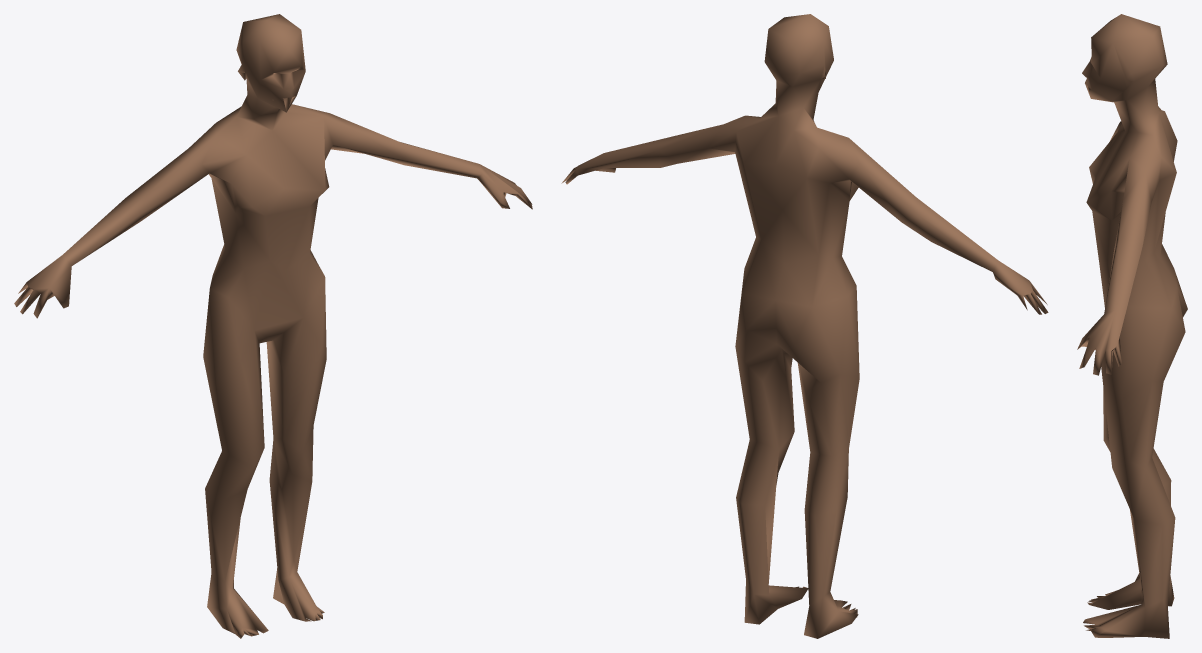
The model's file is obs_000003.obj.
The picture shows the model from 3 angles, left to right: view 1: azimuth 30°, elevation 25°; view 2: azimuth 150°, elevation 25°; view 3: azimuth 270°, elevation 25°; orthographic projection.
Parts seen in each view (by area): view 1: 1-base; view 2: 1-base; view 3: 1-base.
Part boxes in pixels (x1,y1,x2,y2): 1-base: [14, 14, 532, 638]; 1-base: [561, 14, 1048, 638]; 1-base: [1077, 14, 1187, 638].
Bounding box in the file's own units: 1.27 × 1.47 × 0.2451.
